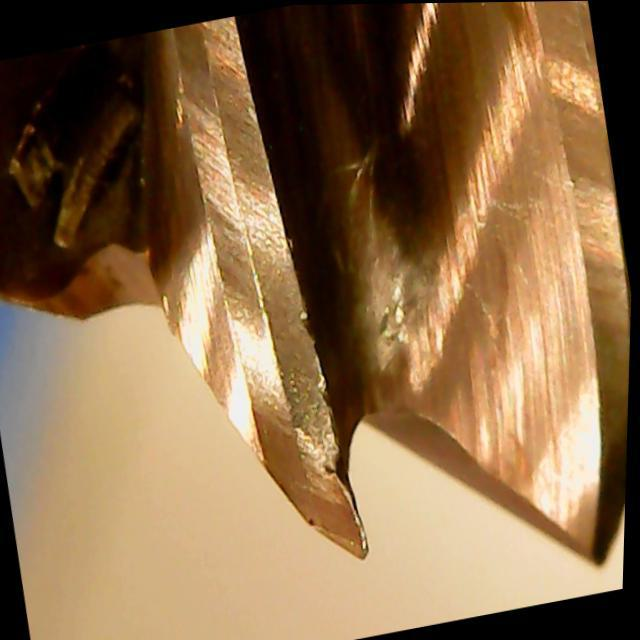Tool-wear-class-1: (206, 270, 401, 587)
